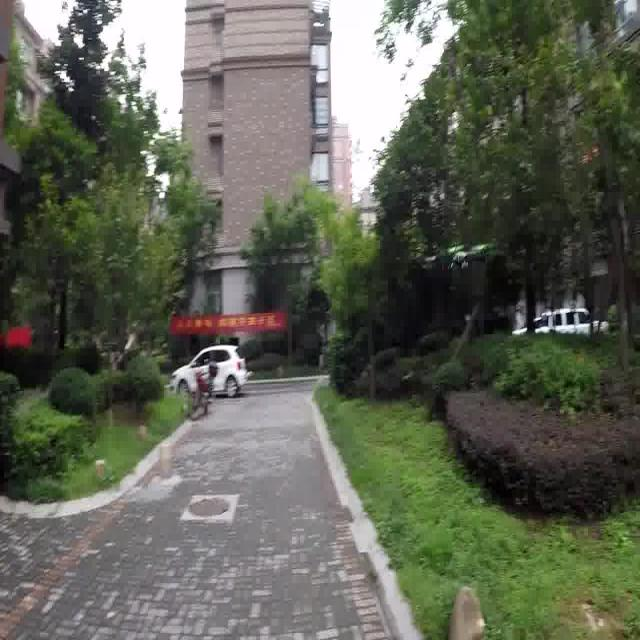drones: (408, 225, 508, 285)
